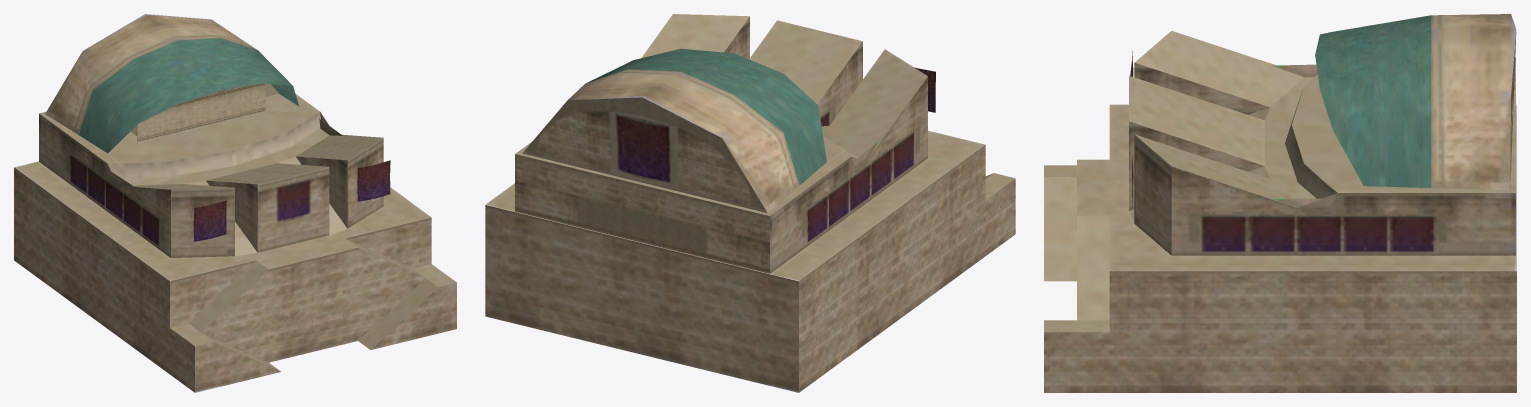
Rendered from ply_nboo_theater_s01_r0_exterior_mesh_l2.fbx.
The picture shows the model from 3 angles, left to right: view 1: azimuth 30°, elevation 25°; view 2: azimuth 150°, elevation 25°; view 3: azimuth 270°, elevation 25°; orthographic projection. The views are drawn at different scales.
Parts seen in each view (by area): view 1: mesh_node; view 2: mesh_node; view 3: mesh_node.
Part boxes in pixels (x1,y1,x2,y2): mesh_node: (14, 14, 456, 392); mesh_node: (485, 14, 1015, 392); mesh_node: (1044, 14, 1516, 392).
Size of the model in its own units: 25.6 by 20.05 by 30.67.
Materials: 1 (1 with a texture image).
